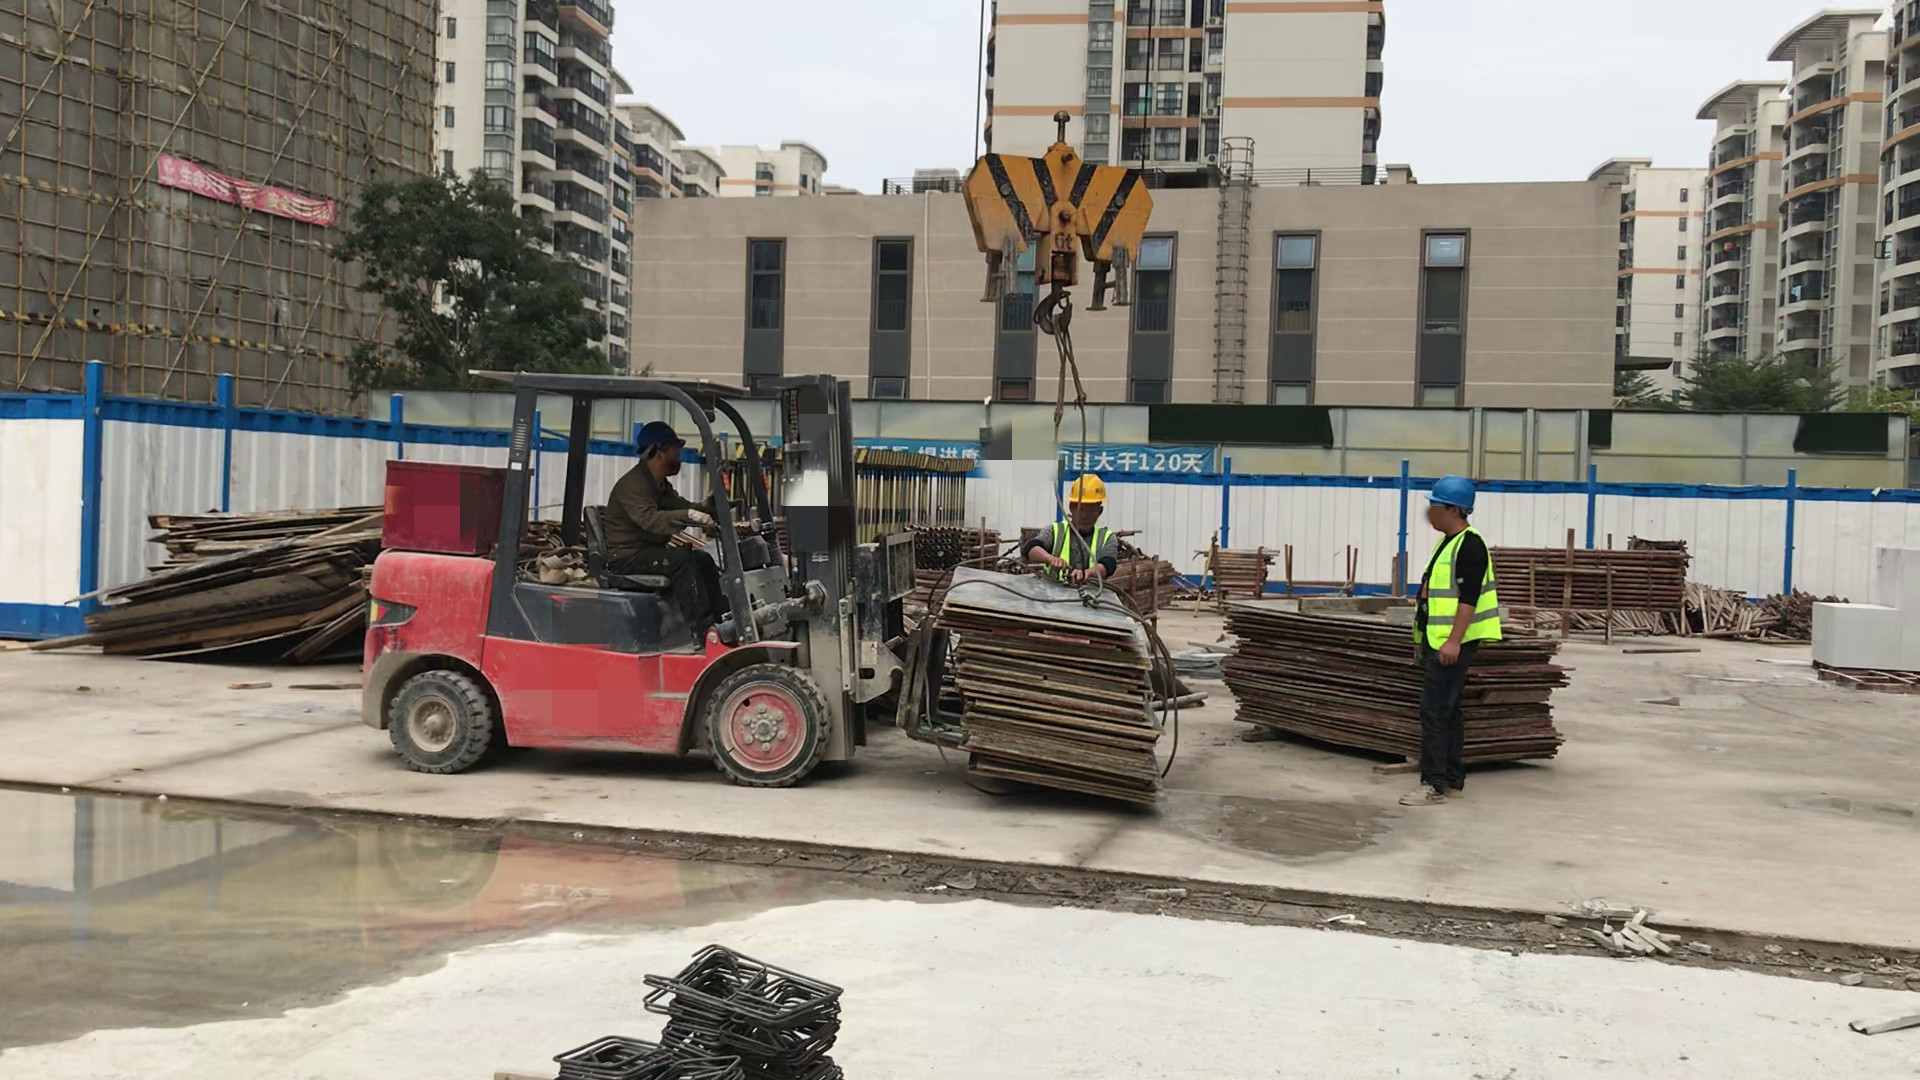board: (1231, 591, 1561, 769), (947, 564, 1163, 816)
brick: (1812, 549, 1920, 676)
helmet: (1425, 476, 1476, 508), (638, 421, 687, 451), (1069, 473, 1107, 505)
hook: (965, 110, 1158, 331)
person: (1413, 474, 1505, 804), (602, 422, 735, 649), (1017, 474, 1117, 592)
slogan: (162, 156, 331, 227)
vest: (1415, 527, 1504, 651)
